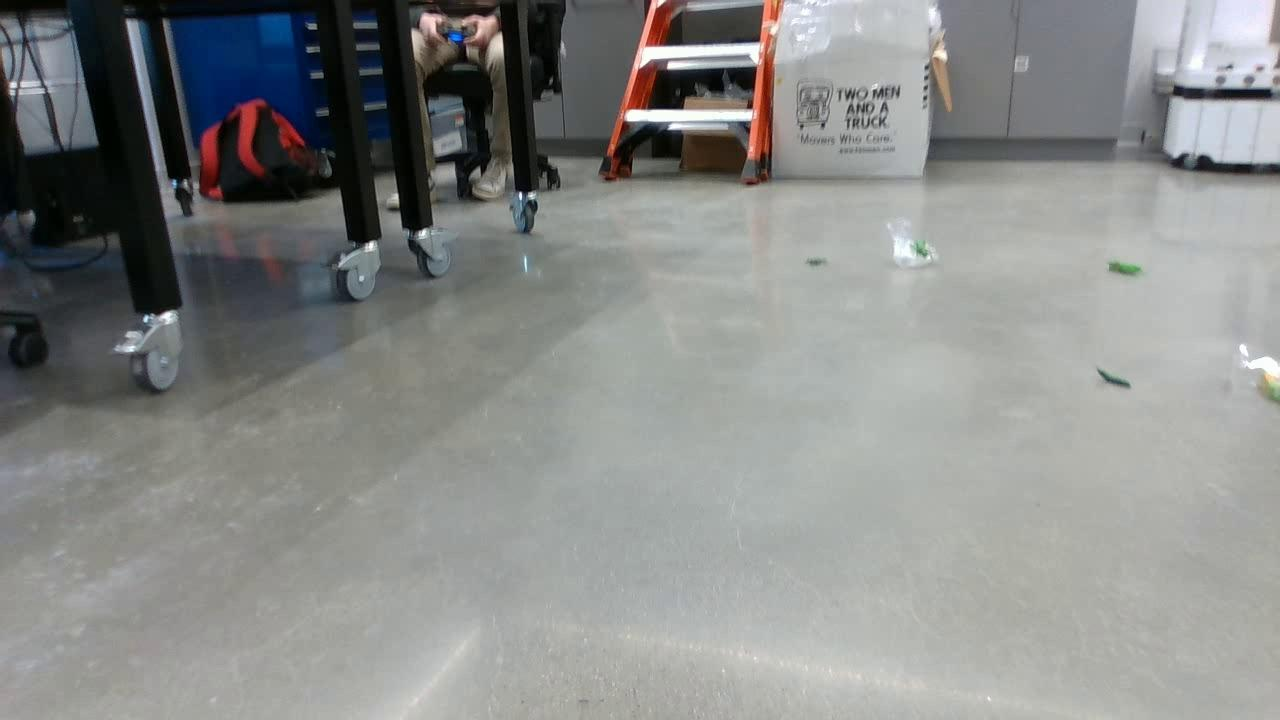grasshopper: (1104, 258, 1140, 277), (909, 238, 932, 261)
